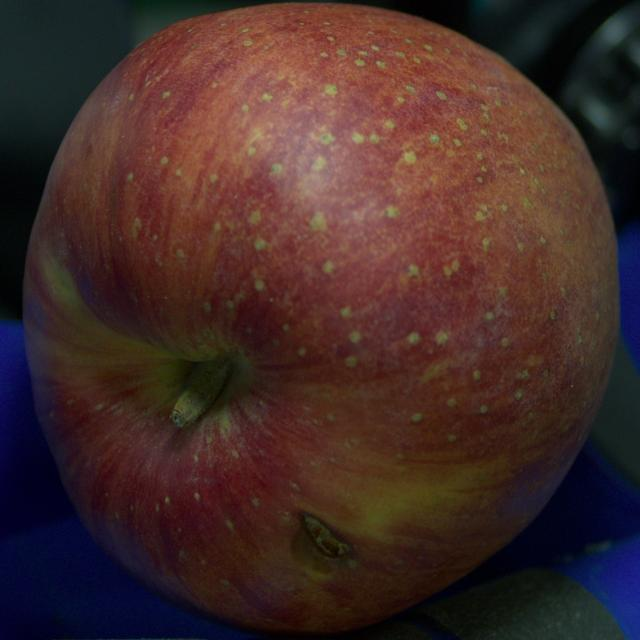apple: (23, 4, 618, 634)
bruise: (288, 530, 336, 578)
scratch: (303, 514, 350, 559)
